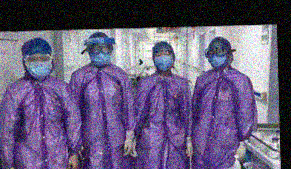with_mask: (23, 53, 52, 79), (87, 42, 112, 66), (205, 47, 227, 68), (153, 49, 173, 71)
